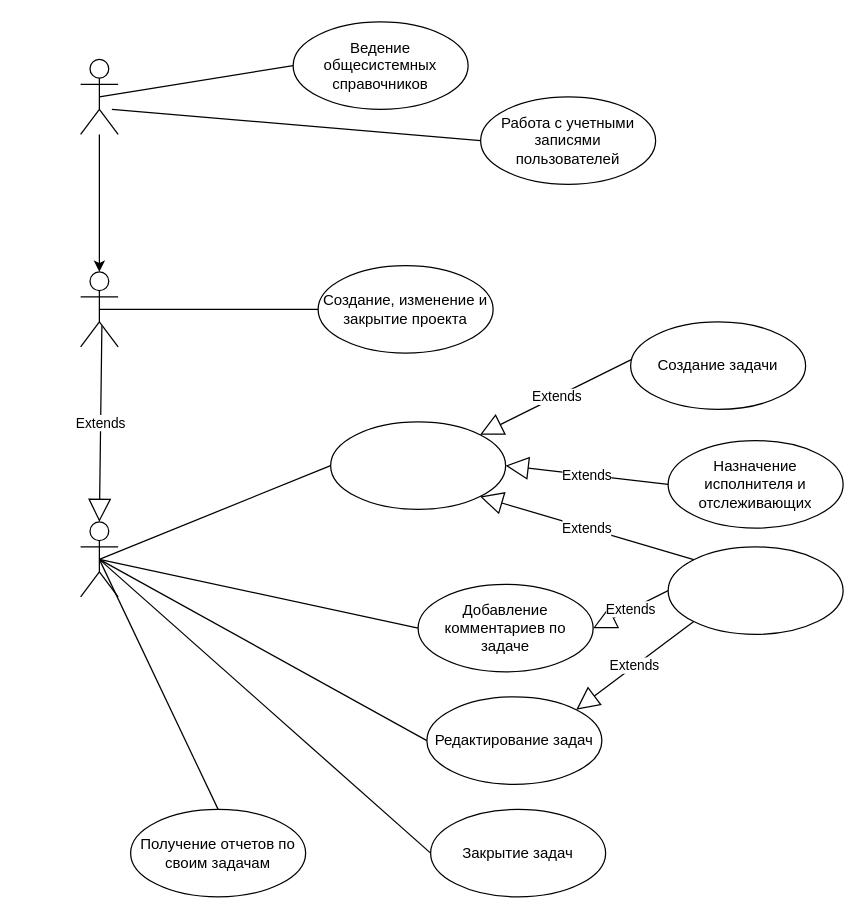
Image size: 866x919. Some labels were removed from this diagram. Here are the shapes that lost their labels. From the top down, the centre of each, then its label:
point 98,96: Администратор
point 98,309: Руководитель проекта
point 417,465: Постановка задач
point 98,559: Пользователь
point 755,590: Добавление файлов
